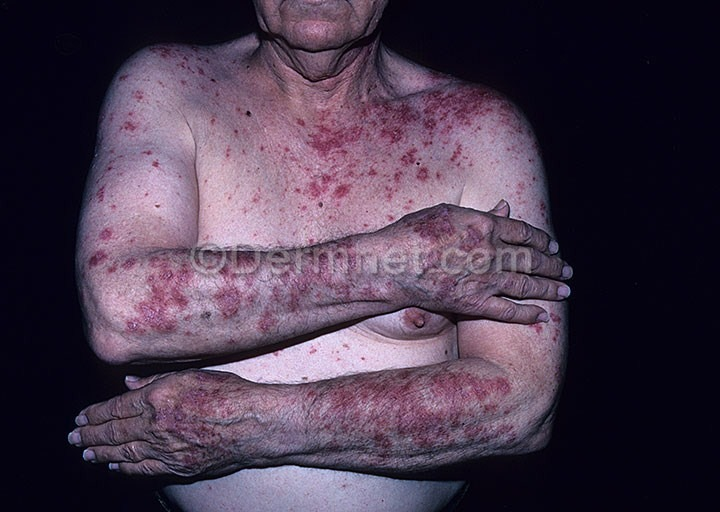Melasma: (294, 74, 529, 246), (291, 372, 522, 460), (155, 367, 263, 479), (208, 276, 386, 333), (417, 273, 497, 306)
